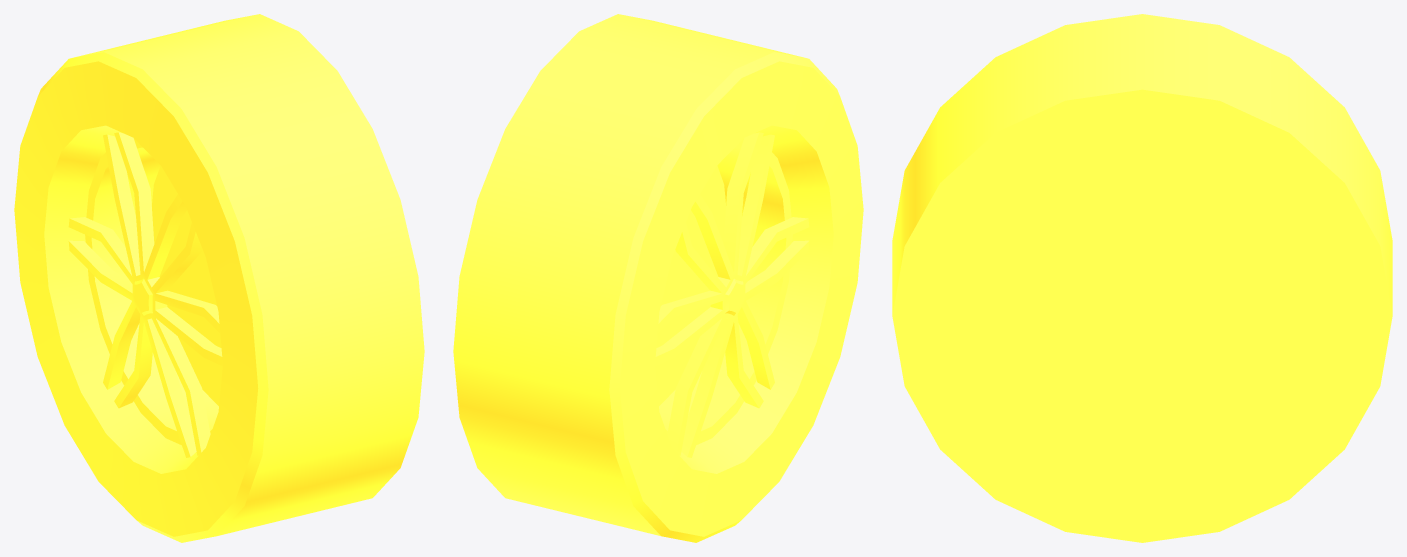
Rendered from racing-wheel.glb.
3 renders of one model, left to right at view 1: azimuth 30°, elevation 25°; view 2: azimuth 150°, elevation 25°; view 3: azimuth 270°, elevation 25°, orthographic.
Parts seen in each view (by area): view 1: model; view 2: model; view 3: model.
Boxes of the visible parts, x1,y1,x2,y2 form: model: (14,14,424,542); model: (453,14,863,542); model: (892,14,1392,542).
Bounding box in the file's own units: 0.2809 × 0.7414 × 0.7414.
